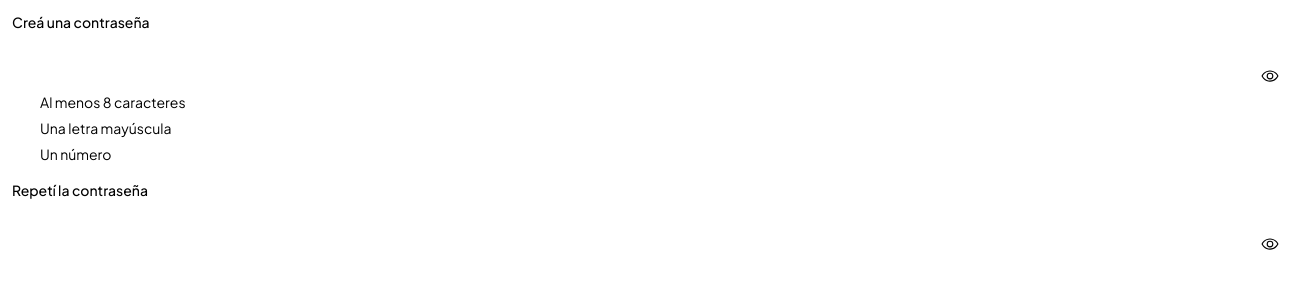
Test case: NewPasswordFields — checklist › no marca error mientras se escribe: recién al salir del campo
In the password field with id "t-password": (652, 60) [12,38,1292,82], type "casa"
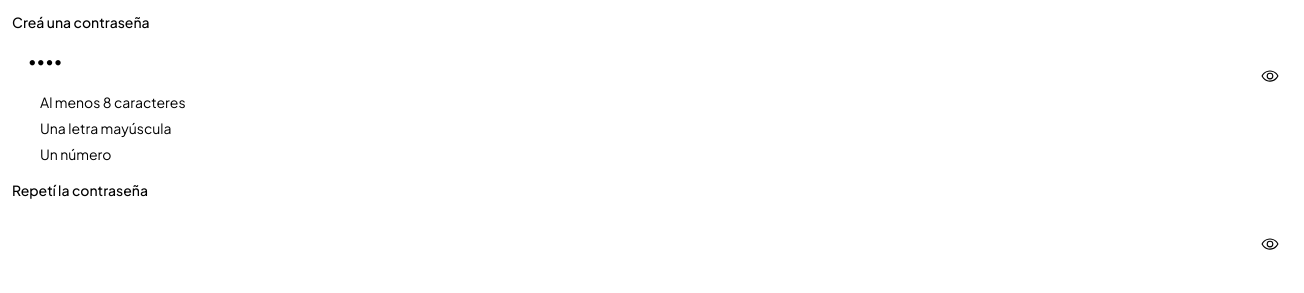
Leave the password field with id "t-password", box [12,38,1292,82]
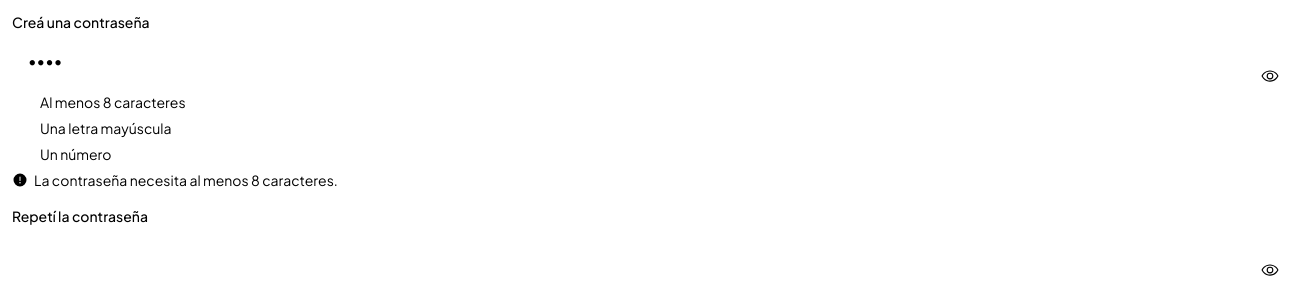
In the password field with id "t-password": (652, 60) [12,38,1292,82], type "casas"
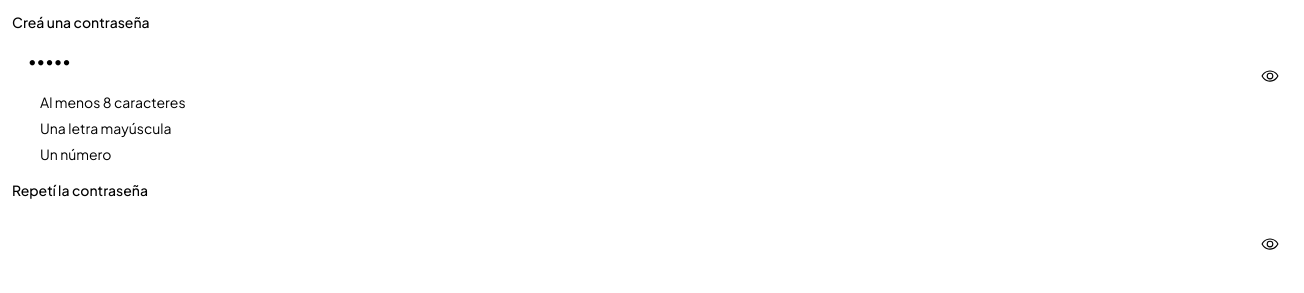
Now the message "La contraseña necesita al menos 8 caracteres." is gone
